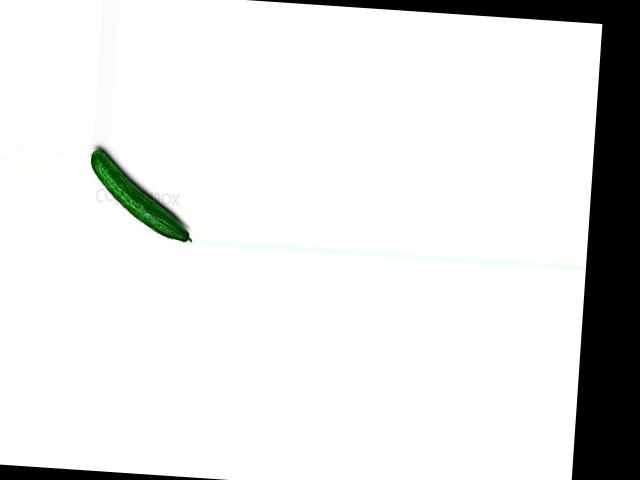cucumber: (86, 148, 199, 242)
